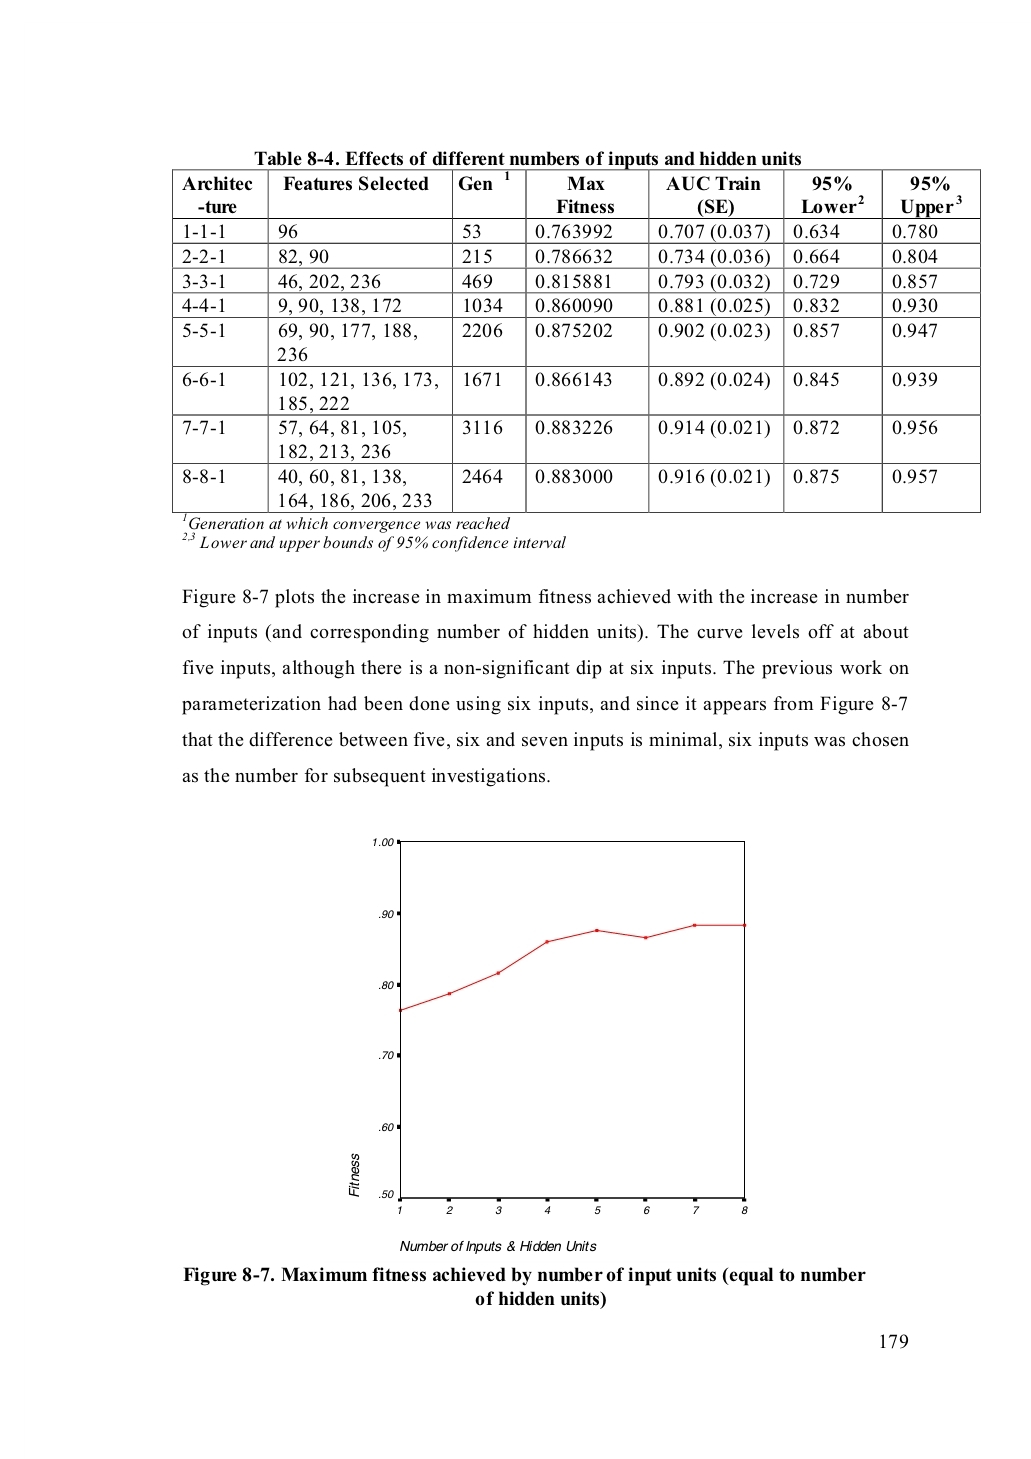Table: (172, 168, 980, 516)
figure: (349, 838, 746, 1214)
